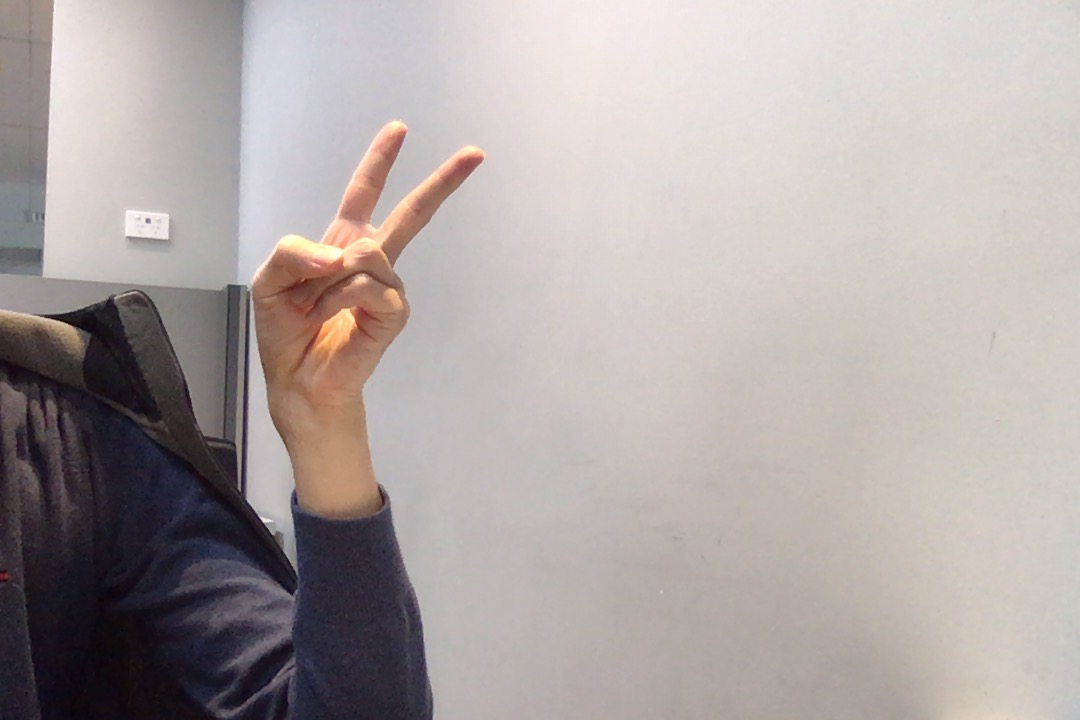peacesign: (245, 107, 498, 418)
